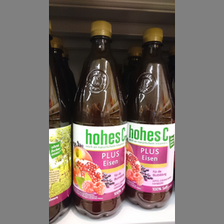juice: (71, 17, 126, 219), (124, 28, 175, 206)
